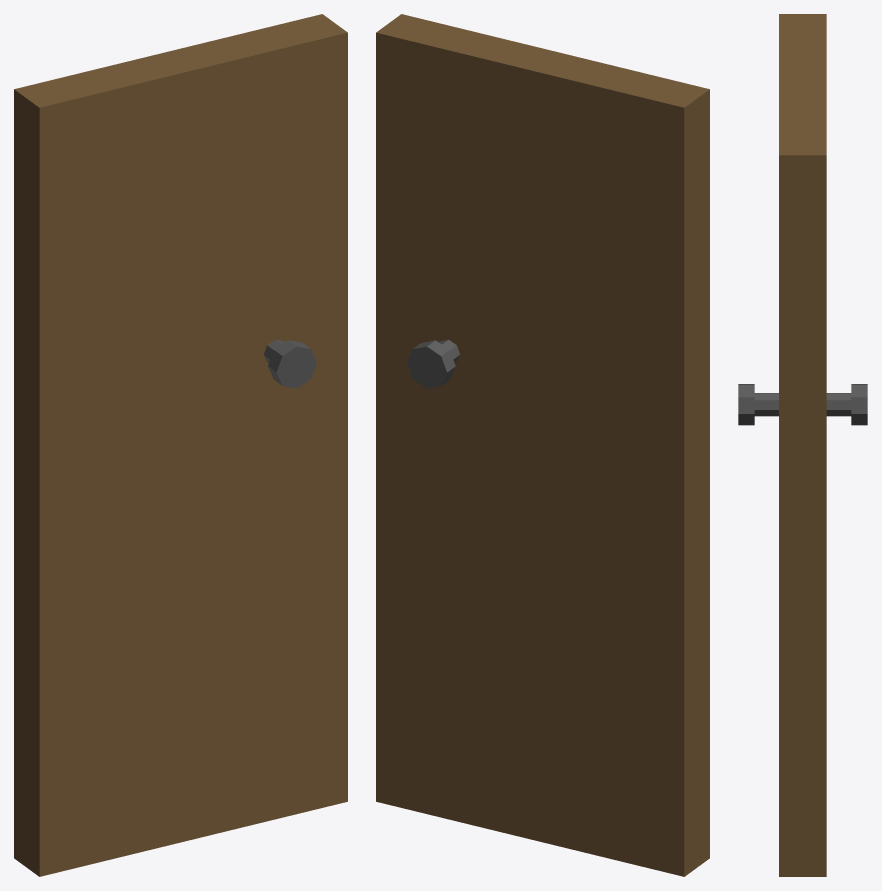
The model's file is Me_Door.fbx.
The picture shows the model from 3 angles, left to right: view 1: azimuth 30°, elevation 25°; view 2: azimuth 150°, elevation 25°; view 3: azimuth 270°, elevation 25°; orthographic projection. The views are drawn at different scales.
Parts seen in each view (by area): view 1: Me_Door; view 2: Me_Door; view 3: Me_Door.
Part boxes in pixels (x1=…): Me_Door: x1=14, y1=14, x2=347, y2=876; Me_Door: x1=376, y1=14, x2=709, y2=876; Me_Door: x1=738, y1=14, x2=867, y2=876.
Size of the model in its own units: 683 by 1628 by 265.
